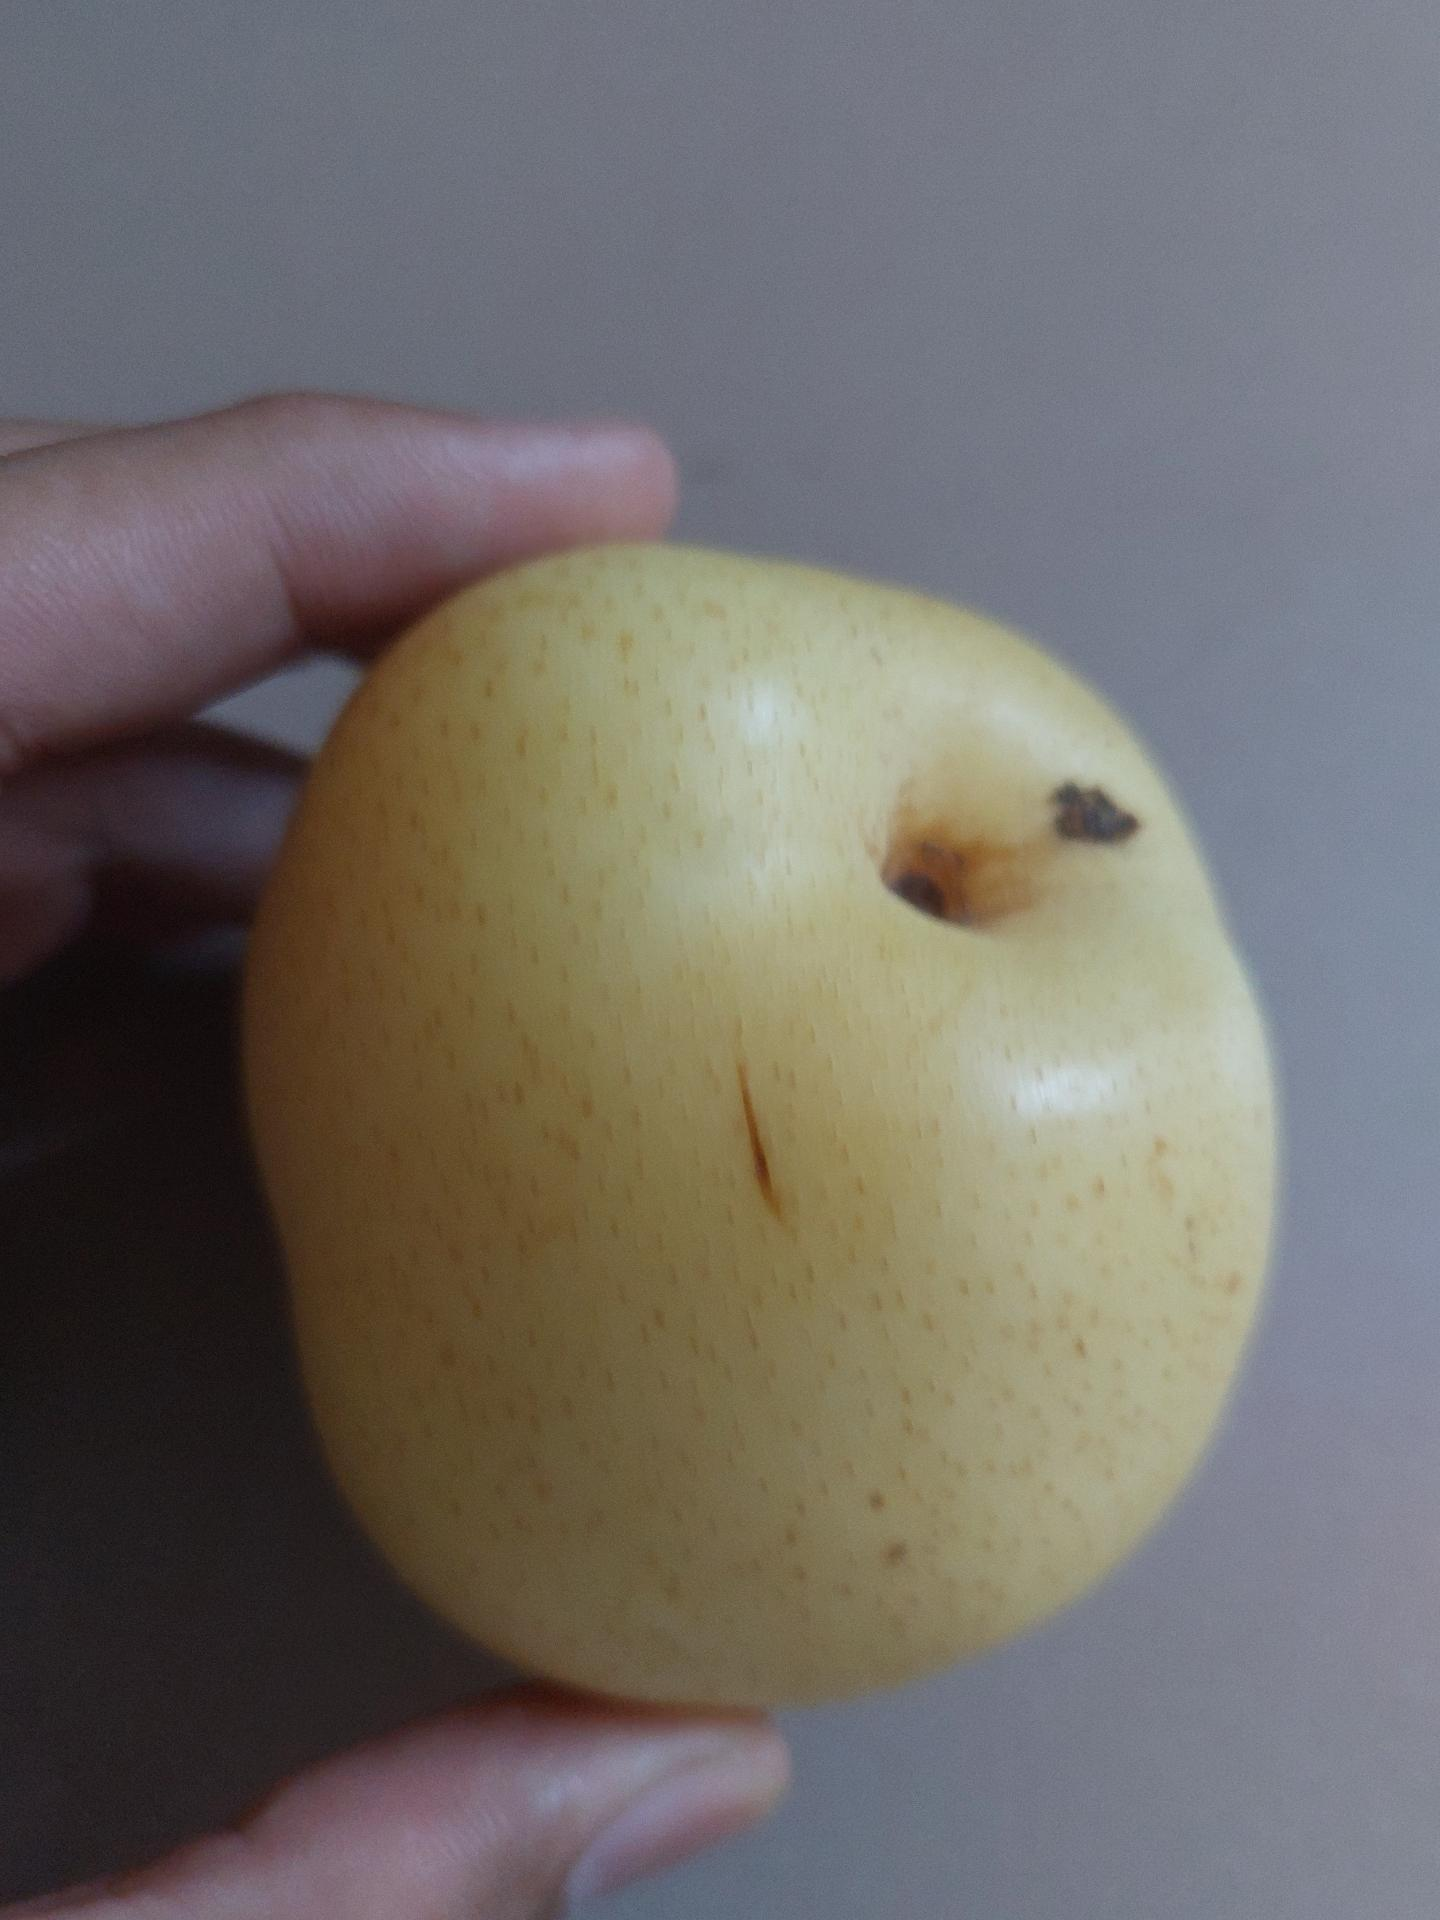Good Pear: (228, 518, 1296, 1724)
